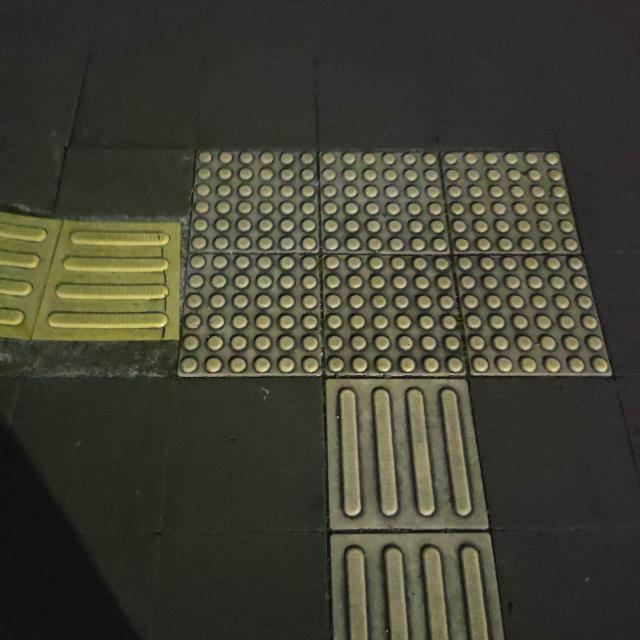kiri: (0, 130, 549, 535)
